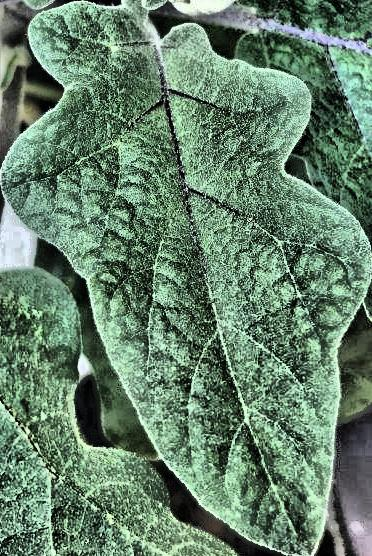HEALTHY: (1, 1, 372, 556)
